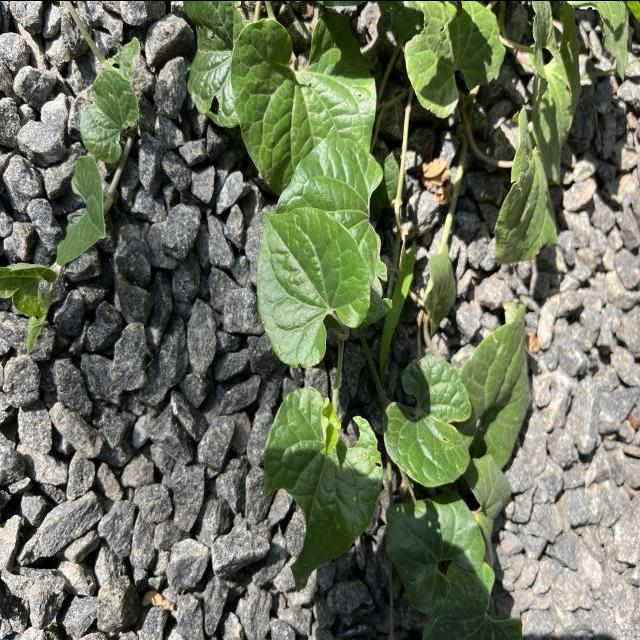Piper longum: (255, 203, 372, 370)
